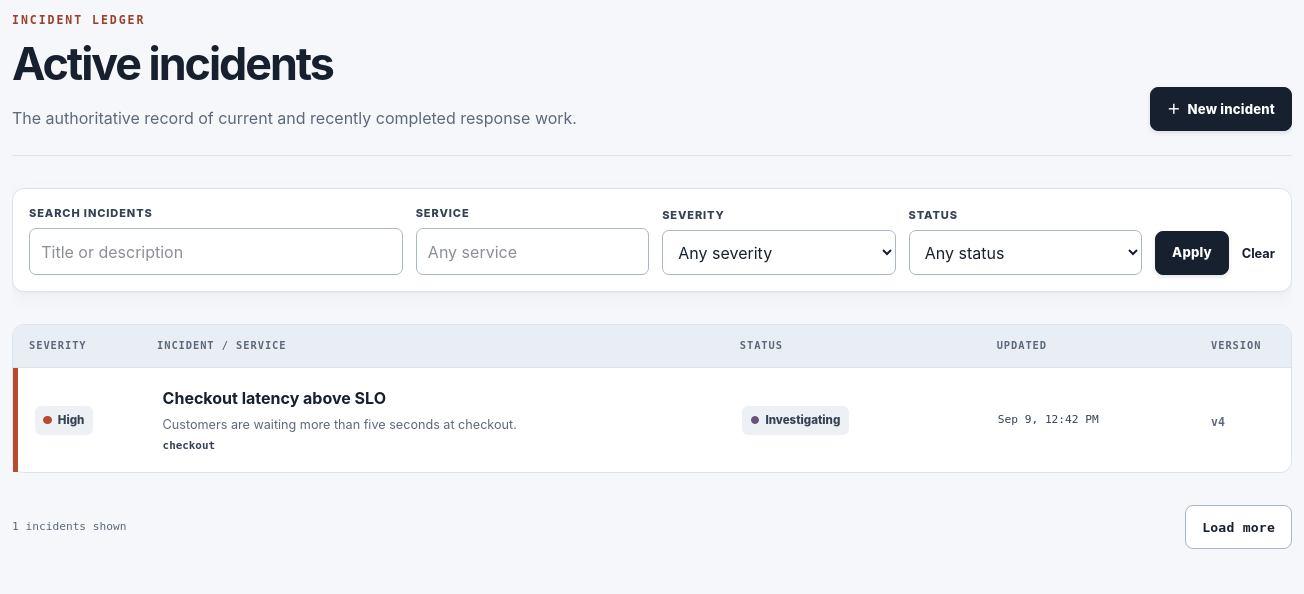
Test: IncidentListScreen › appends a cursor page without duplicating an incident
Click the button "Load more": (1239, 527) [1185,505,1292,549]
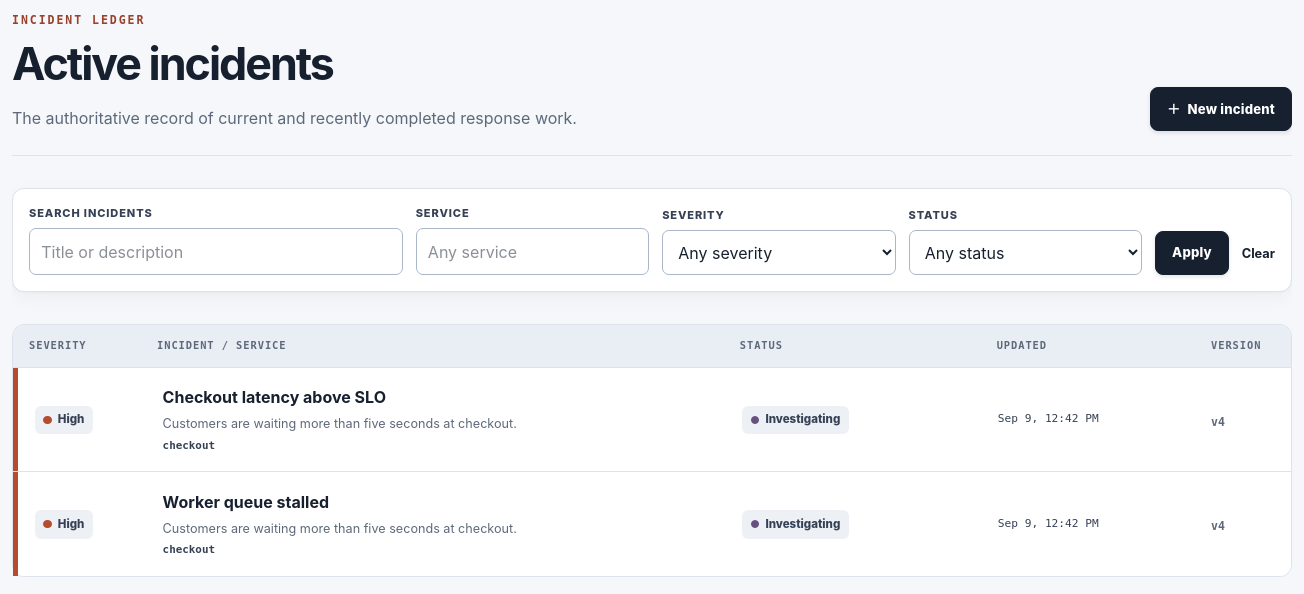
Now the number of links "Checkout latency above SLO" is 2
